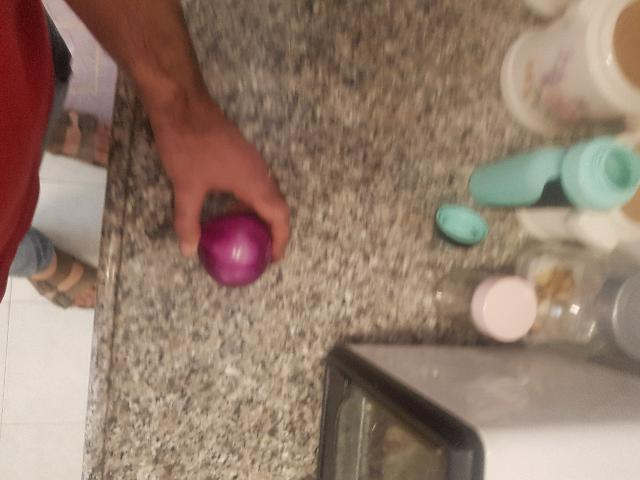onion: (361, 366, 447, 453)
